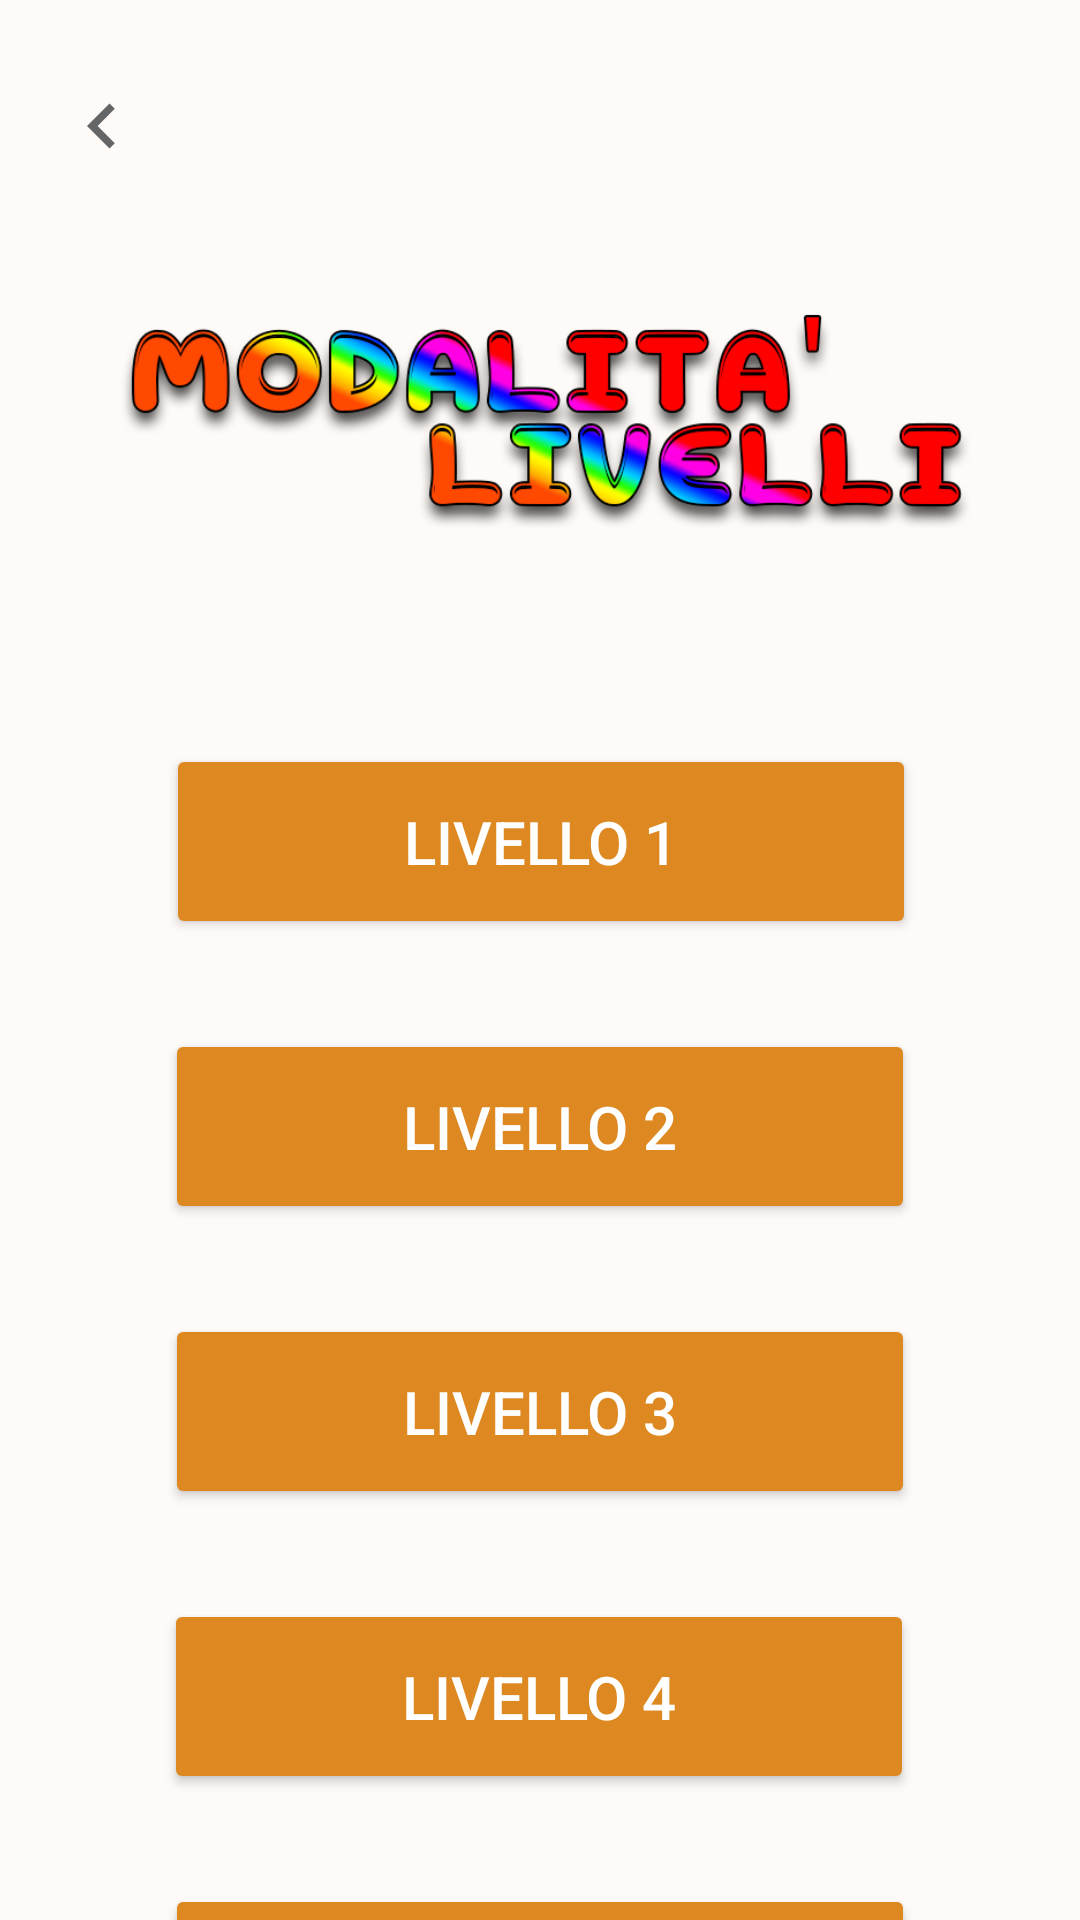

Point at icon controls on the screen. Image size 1080 x 1920, points as (x,y).
backbutton: (101,126)
